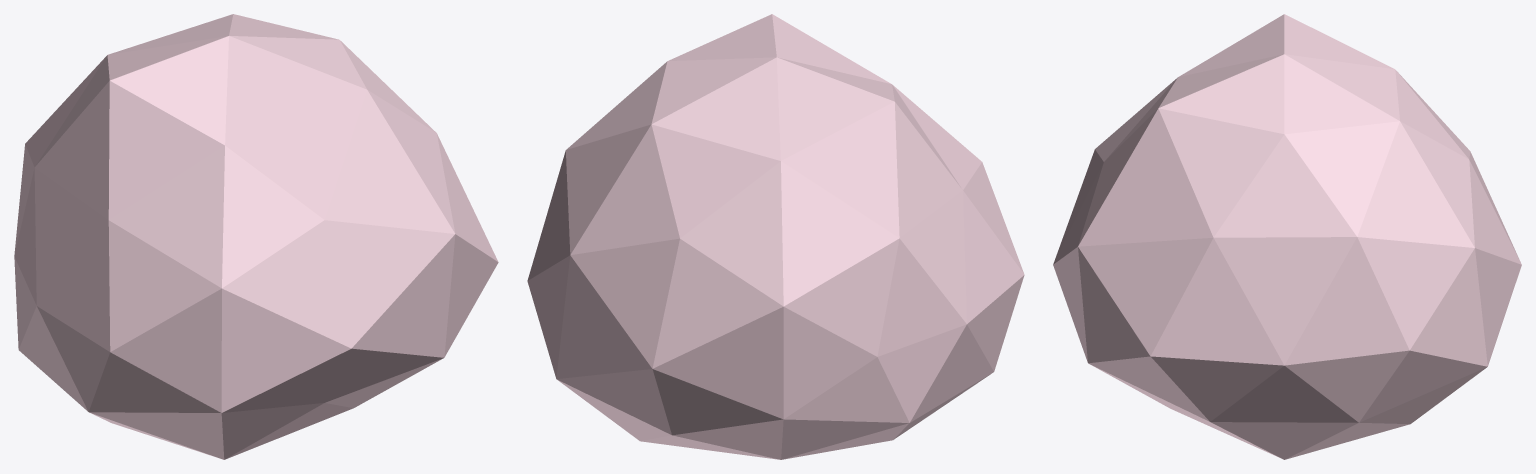
The model's file is tree-blossom-b-crown-far.glb.
The picture shows the model from 3 angles, left to right: view 1: azimuth 30°, elevation 25°; view 2: azimuth 150°, elevation 25°; view 3: azimuth 270°, elevation 25°; orthographic projection. The views are drawn at different scales.
Parts seen in each view (by area): view 1: tree-blossom-b-crown-far; view 2: tree-blossom-b-crown-far; view 3: tree-blossom-b-crown-far.
Boxes of the visible parts, x1,y1,x2,y2 form: tree-blossom-b-crown-far: [14, 14, 498, 459]; tree-blossom-b-crown-far: [527, 14, 1024, 459]; tree-blossom-b-crown-far: [1053, 14, 1521, 459].
Size of the model in its own units: 0.7108 by 0.6116 by 0.7438.
